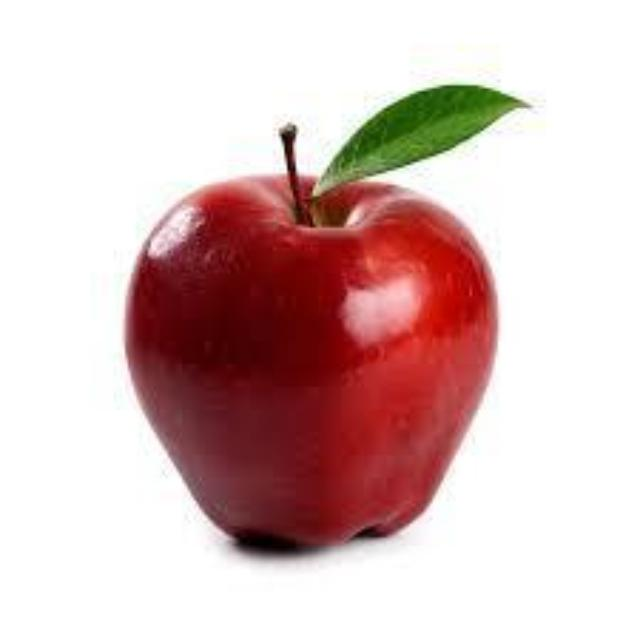apple: (125, 85, 526, 543)
